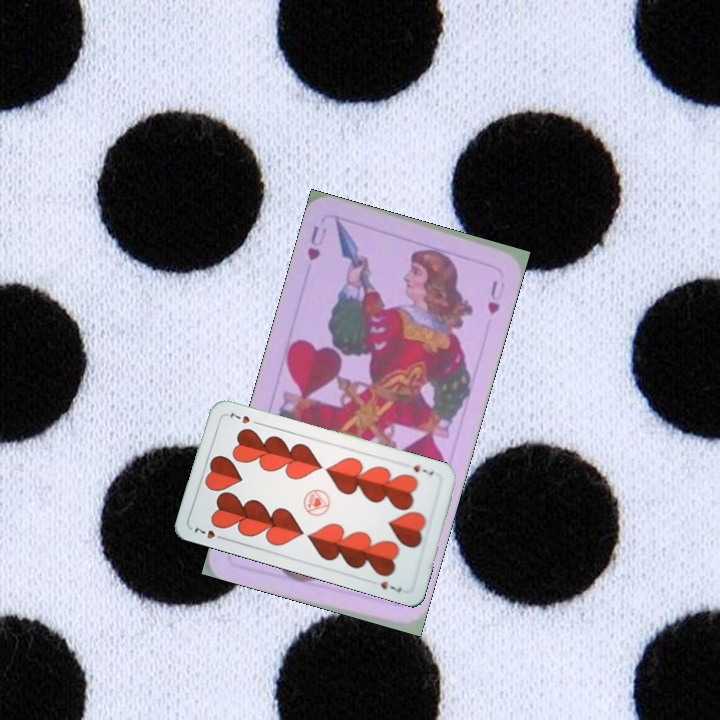H7: (190, 523, 228, 542), (409, 461, 436, 479)
HU: (303, 222, 330, 264)
